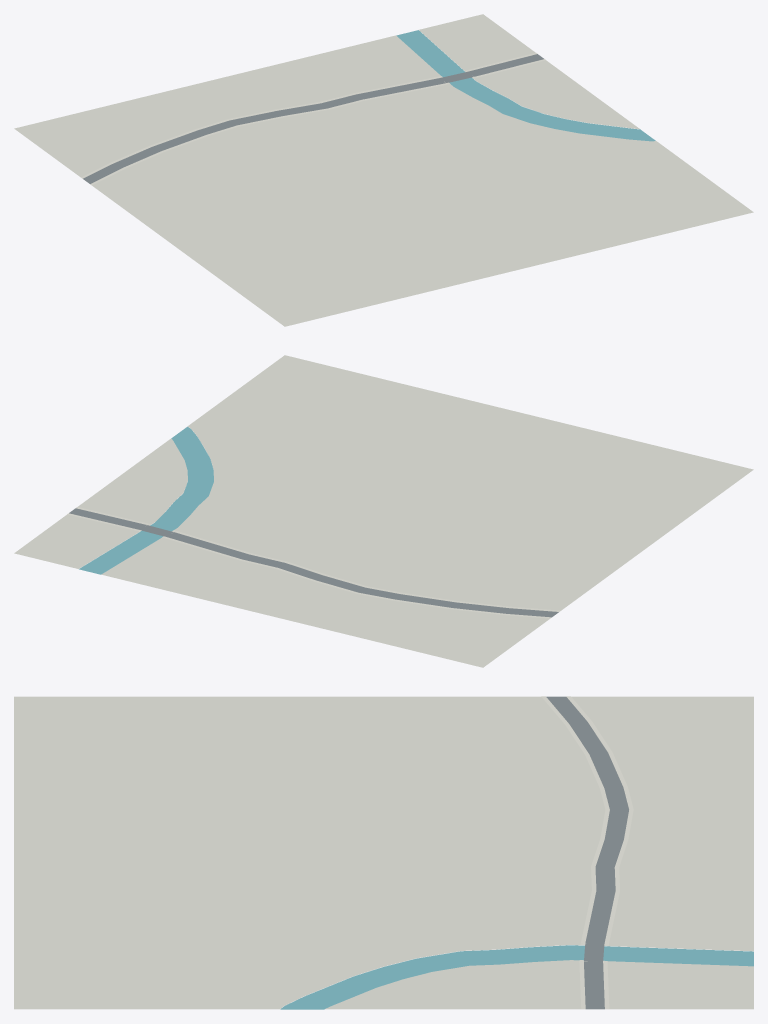
3 views of the same model, one above another, from view 1: azimuth 30°, elevation 25°; view 2: azimuth 150°, elevation 25°; view 3: azimuth 270°, elevation 25° (orthographic). The views are drawn at different scales.
Visible parts, largest first — view 1: city; view 2: city; view 3: city.
Part boxes in pixels (x1,y1,x2,y2): city: (14,14,753,326); city: (14,355,753,667); city: (14,696,753,1009).
Bounding box in the file's own units: 500 × 0.4 × 500.
